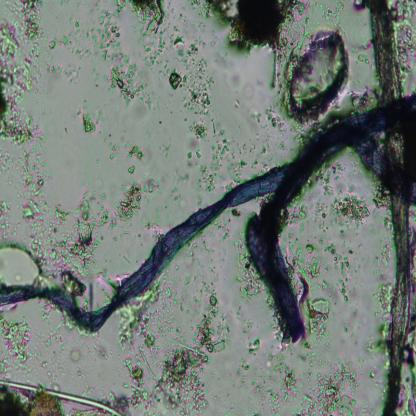Air bubble: (0, 246, 40, 288)
Background material: (264, 20, 355, 134), (147, 288, 228, 416), (89, 0, 171, 114), (0, 0, 52, 145), (285, 242, 355, 340), (44, 188, 99, 294), (0, 145, 52, 250), (204, 0, 292, 58), (0, 377, 127, 416), (108, 280, 170, 352), (168, 36, 220, 120), (194, 127, 247, 200), (305, 363, 364, 416), (0, 313, 36, 389), (112, 176, 158, 232), (252, 358, 296, 416), (123, 365, 157, 416), (40, 308, 64, 379), (332, 183, 369, 229), (46, 18, 90, 52), (233, 256, 260, 304), (300, 0, 342, 27), (239, 332, 263, 376), (298, 198, 330, 229), (79, 104, 105, 139), (172, 144, 194, 180), (248, 138, 273, 168), (92, 189, 108, 233), (124, 150, 145, 176), (54, 63, 78, 84), (215, 217, 233, 245), (166, 182, 184, 209), (355, 41, 372, 68), (67, 341, 85, 365), (228, 206, 245, 220), (108, 148, 121, 160)
Cellulose filter fibre: (367, 0, 413, 416)
Cotton: (0, 83, 416, 338)
